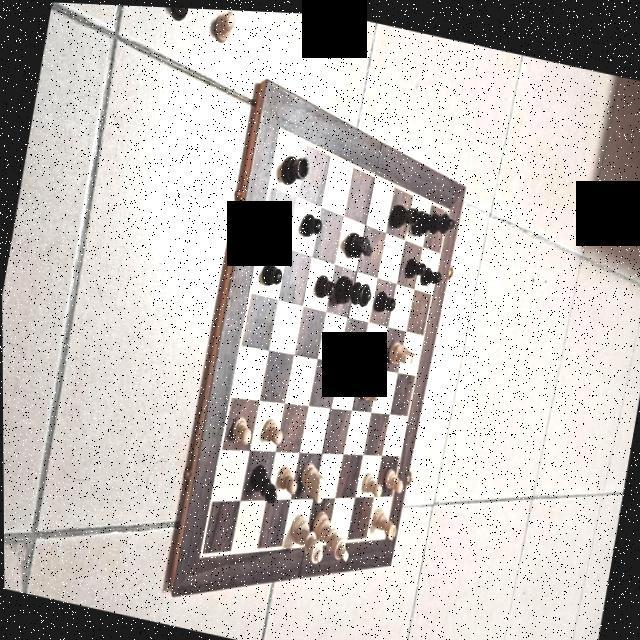chess-table-corners: (194, 542, 204, 560), (274, 118, 284, 134), (444, 200, 452, 210), (382, 531, 386, 537)
